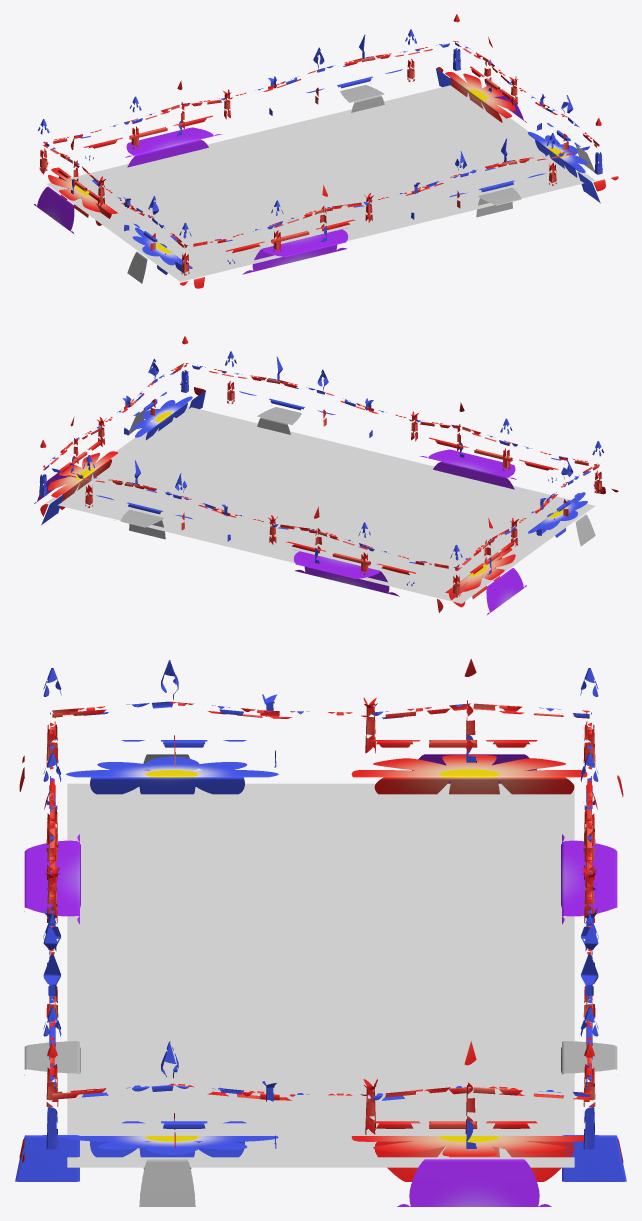
File: SM_FloorBed.fbx
3 renders of one model, top to bottom at view 1: azimuth 30°, elevation 25°; view 2: azimuth 150°, elevation 25°; view 3: azimuth 270°, elevation 25°, orthographic. The views are drawn at different scales.
Parts seen in each view (by area): view 1: FlowerBed; view 2: FlowerBed; view 3: FlowerBed.
Part boxes in pixels (x1,y1,x2,y2): FlowerBed: [34, 14, 618, 288]; FlowerBed: [34, 336, 618, 614]; FlowerBed: [15, 658, 626, 1206].
Size of the model in its own units: 434 by 72.34 by 269.
